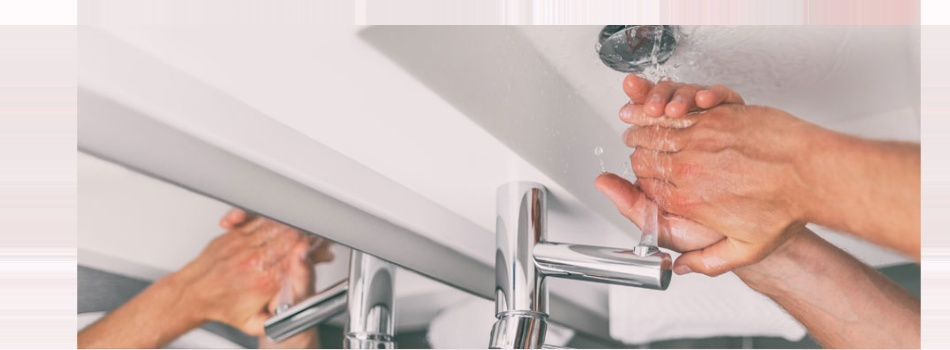washing hand: (571, 28, 761, 322)
